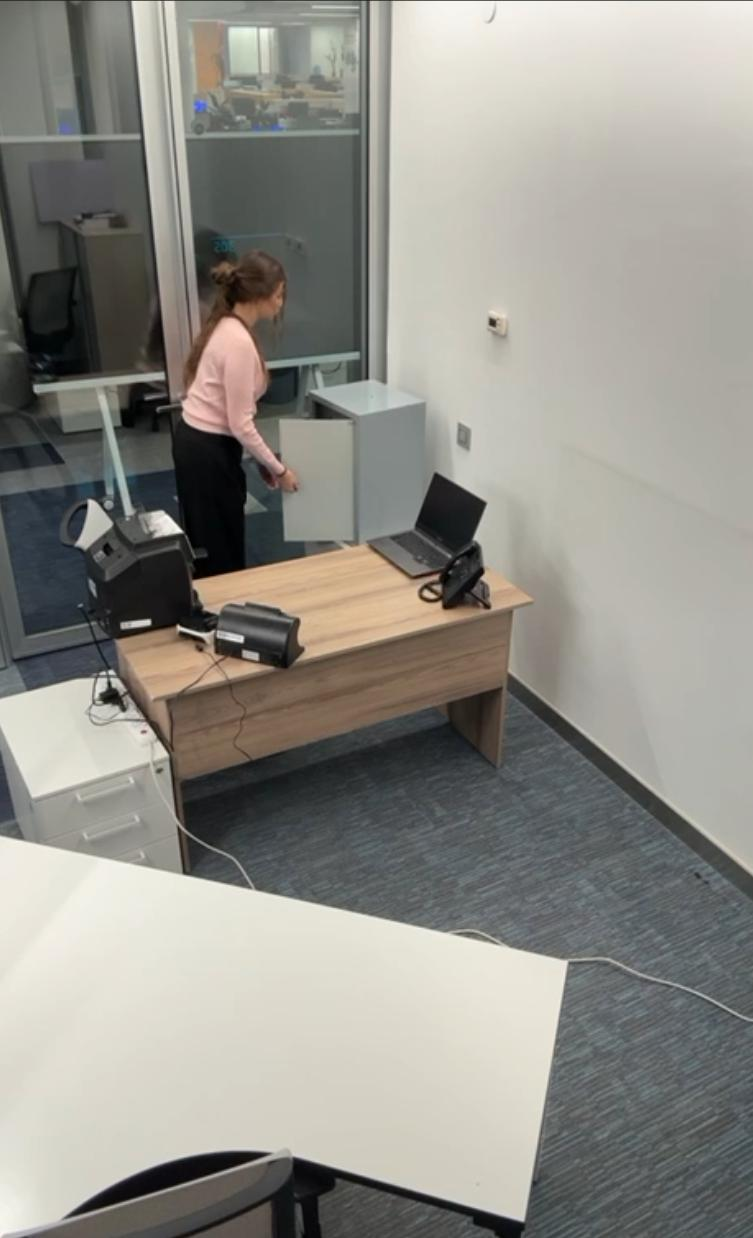counter: (81, 509, 204, 636)
safe_open: (278, 380, 427, 544)
uv_lamp: (213, 601, 307, 669)
